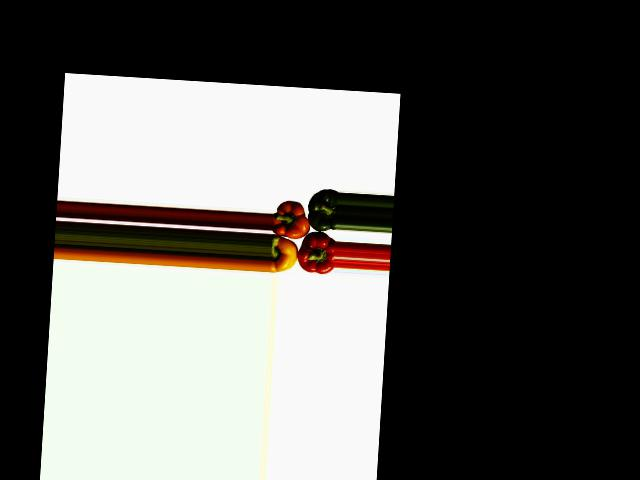bell_pepper: (269, 232, 301, 275)
